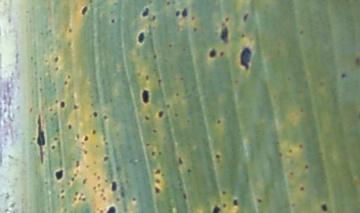tarspot: (34, 113, 46, 166), (240, 46, 251, 70), (220, 24, 230, 43), (141, 89, 150, 105), (54, 169, 64, 182), (137, 31, 145, 45), (110, 180, 118, 193), (80, 5, 89, 16), (141, 8, 150, 18), (208, 48, 217, 58), (242, 11, 249, 23), (320, 202, 328, 212), (173, 8, 181, 18), (156, 110, 164, 119), (211, 204, 219, 213), (182, 8, 188, 20), (107, 206, 117, 213), (58, 100, 66, 108), (153, 168, 161, 176), (233, 198, 240, 207), (153, 186, 160, 195), (222, 15, 230, 22), (286, 146, 293, 154), (218, 50, 225, 57), (298, 29, 305, 36), (297, 143, 304, 150), (215, 118, 222, 125), (53, 55, 60, 62), (42, 179, 49, 186), (299, 184, 305, 192), (154, 177, 160, 185), (83, 134, 89, 142), (50, 143, 56, 151), (144, 73, 150, 81), (182, 192, 188, 200), (177, 76, 185, 82), (76, 132, 81, 141), (178, 156, 183, 165), (340, 73, 347, 79), (257, 197, 263, 204), (215, 153, 222, 159), (110, 18, 116, 25), (192, 26, 198, 33), (355, 57, 360, 65), (304, 162, 309, 170), (93, 110, 98, 118), (82, 177, 87, 185), (289, 170, 295, 176), (73, 104, 79, 110), (103, 156, 109, 162), (221, 190, 227, 196), (233, 79, 239, 85), (83, 149, 88, 156), (158, 150, 163, 157), (174, 111, 179, 118), (153, 54, 158, 61), (54, 97, 59, 104), (291, 201, 296, 208), (68, 122, 72, 130), (76, 160, 80, 168), (145, 113, 149, 121), (53, 136, 59, 141), (92, 129, 97, 135), (103, 115, 109, 120), (85, 163, 90, 169), (104, 140, 109, 146), (95, 143, 100, 149), (187, 167, 192, 173), (166, 103, 171, 109), (165, 1, 171, 6), (132, 196, 137, 202), (115, 197, 121, 202), (74, 190, 79, 196), (71, 196, 77, 201), (96, 182, 101, 188), (158, 78, 162, 85), (152, 14, 156, 21), (240, 33, 245, 38), (63, 80, 68, 85), (175, 92, 180, 97), (60, 188, 65, 193), (96, 175, 101, 180), (104, 178, 109, 183), (186, 118, 191, 123), (69, 27, 73, 33), (147, 1, 153, 5), (99, 209, 105, 213), (78, 196, 82, 202), (66, 182, 72, 186), (29, 106, 33, 112), (30, 55, 34, 61), (222, 204, 227, 208), (55, 66, 59, 71), (67, 74, 71, 79), (49, 107, 53, 112), (153, 129, 157, 134), (146, 142, 151, 146), (192, 16, 196, 21), (168, 43, 172, 48), (61, 194, 65, 199), (101, 188, 105, 193), (93, 185, 97, 190), (48, 28, 52, 33), (152, 150, 155, 156), (71, 177, 75, 181), (89, 1, 94, 4), (83, 198, 86, 202), (103, 197, 106, 201), (74, 174, 78, 177)
